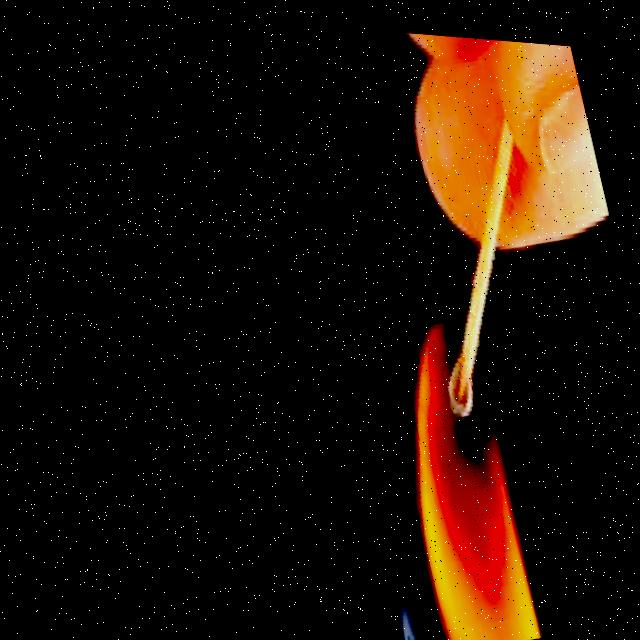Fire: (361, 308, 549, 640)
